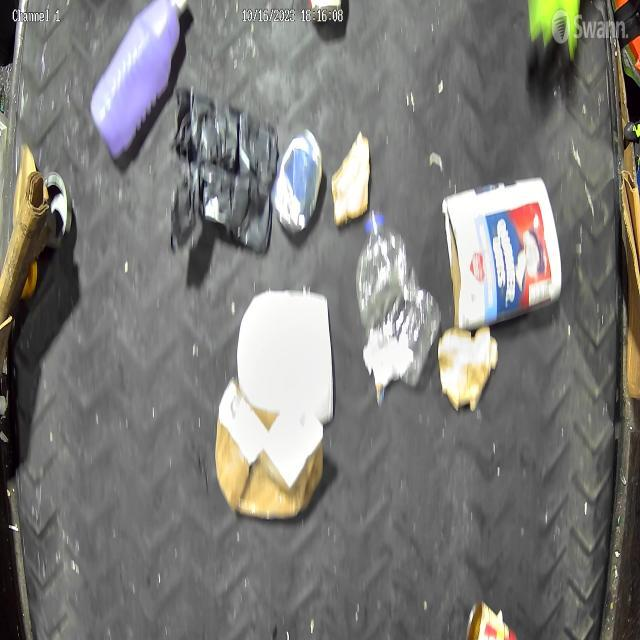can: (272, 126, 324, 237), (464, 599, 518, 640), (45, 170, 72, 244)
milk_jug: (238, 289, 333, 422)
plastic_bottle: (356, 208, 442, 388)
